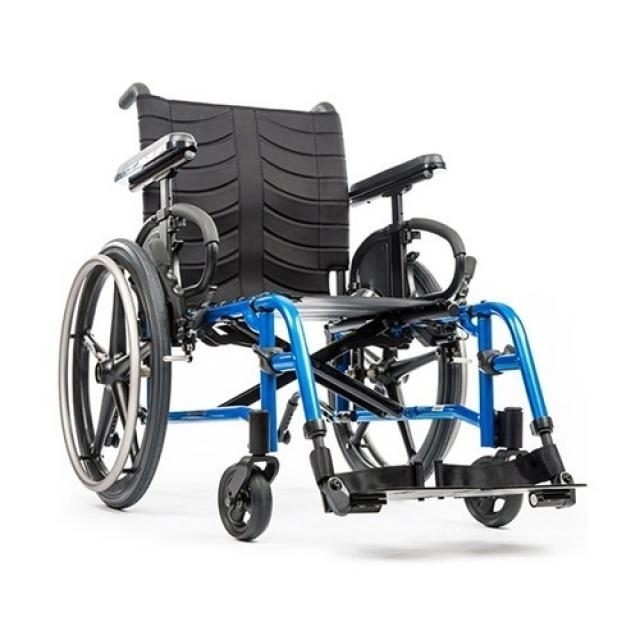wheelchair: (50, 73, 589, 546)
